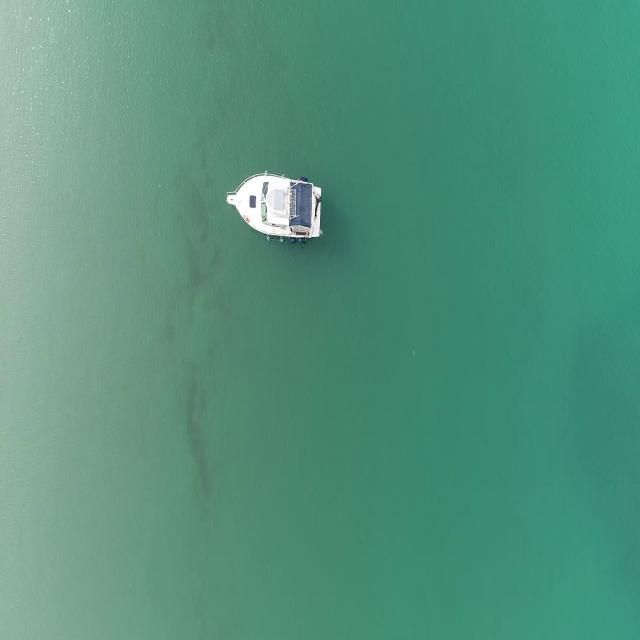boat: (225, 170, 324, 248)
